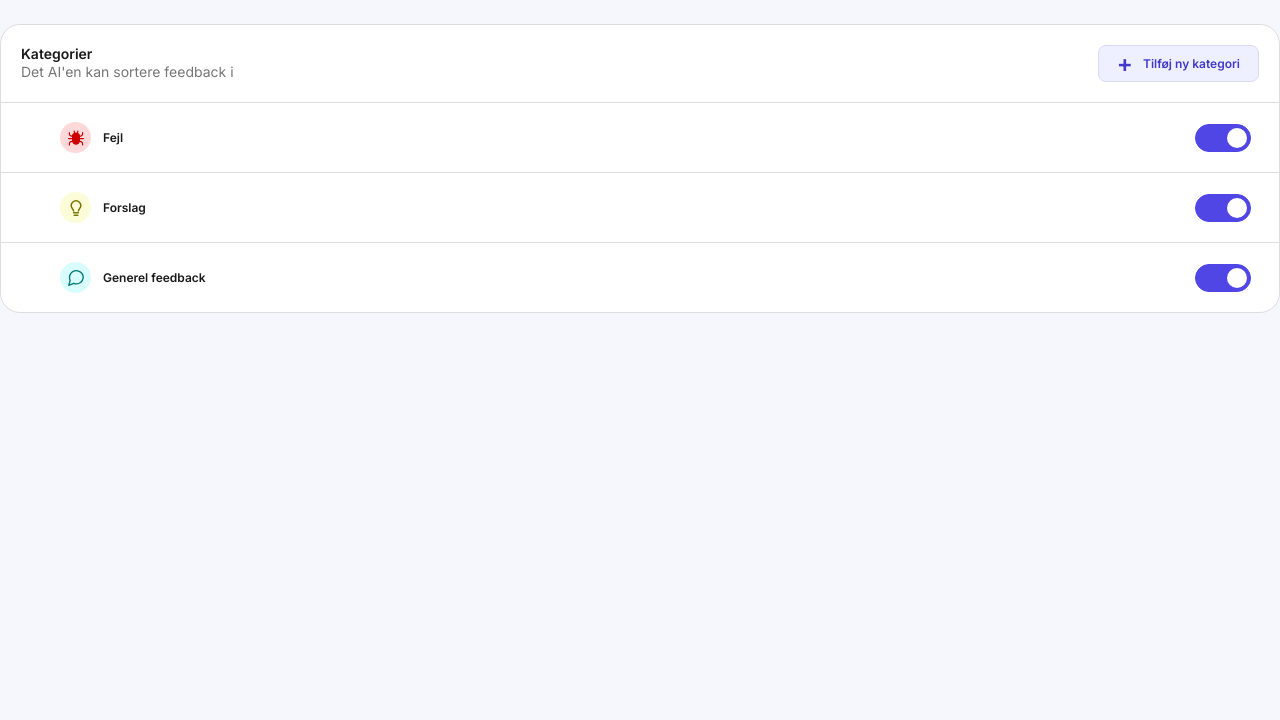
Test: CategorySettings – adding (US1) › adds the category last with its icon and colour, then focuses the button (FR-006, FR-011)
Click the button "+ Tilføj ny kategori".
click(1178, 64)  # box left=1098, top=45, right=1259, bottom=82
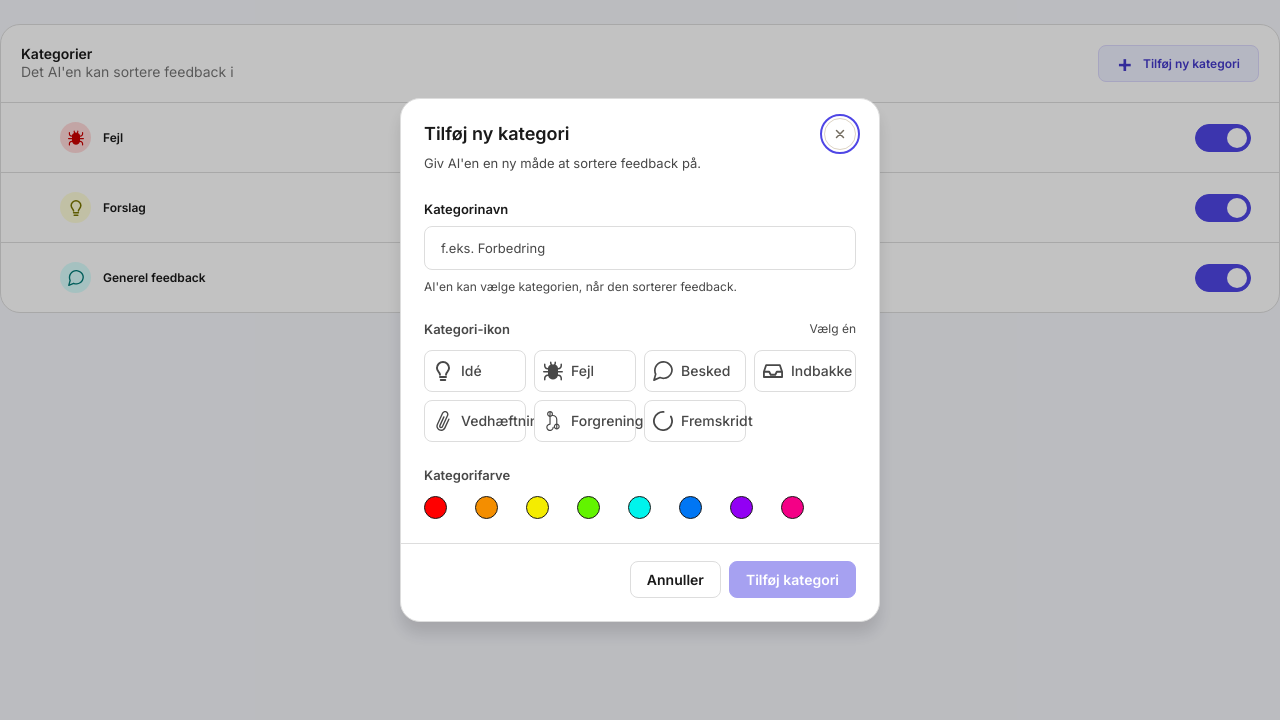
Type "Forbedring" into the field labelled "Kategorinavn".
click(640, 248); type("Forbedring")  # box left=424, top=226, right=856, bottom=270
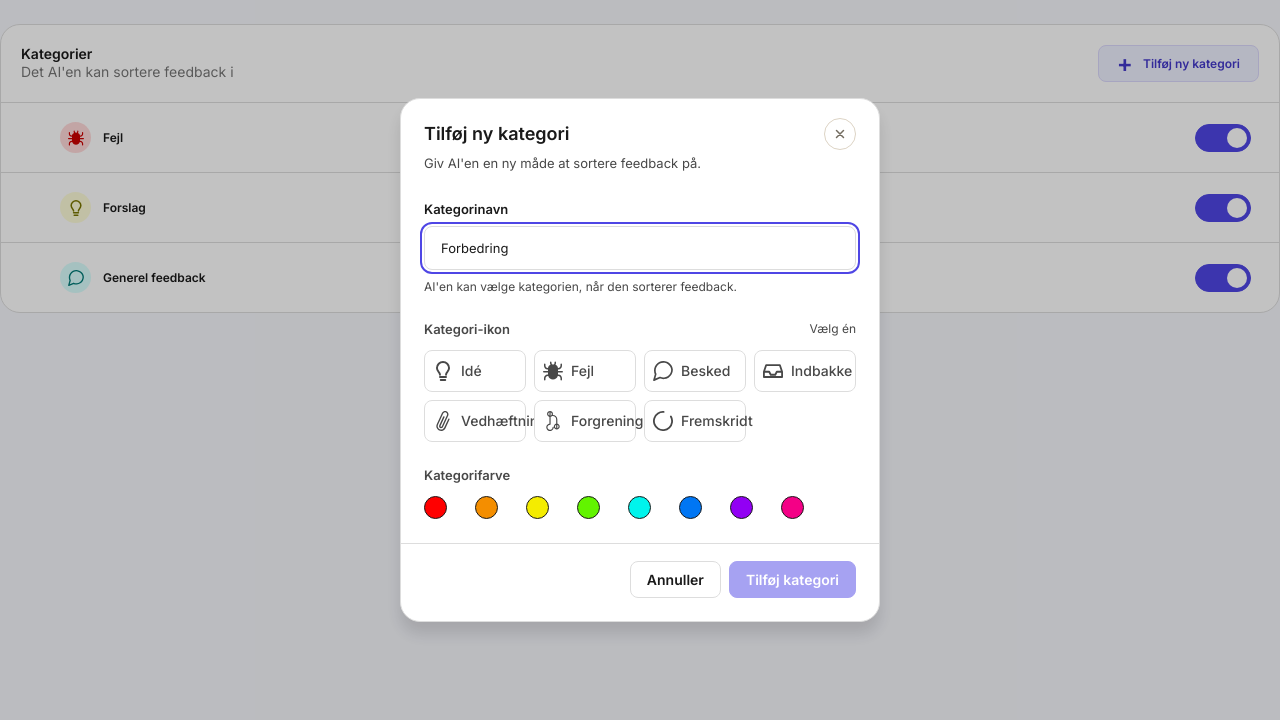
Click the 1st radio button labelled "Indbakke".
click(805, 371)  # box left=754, top=350, right=856, bottom=392
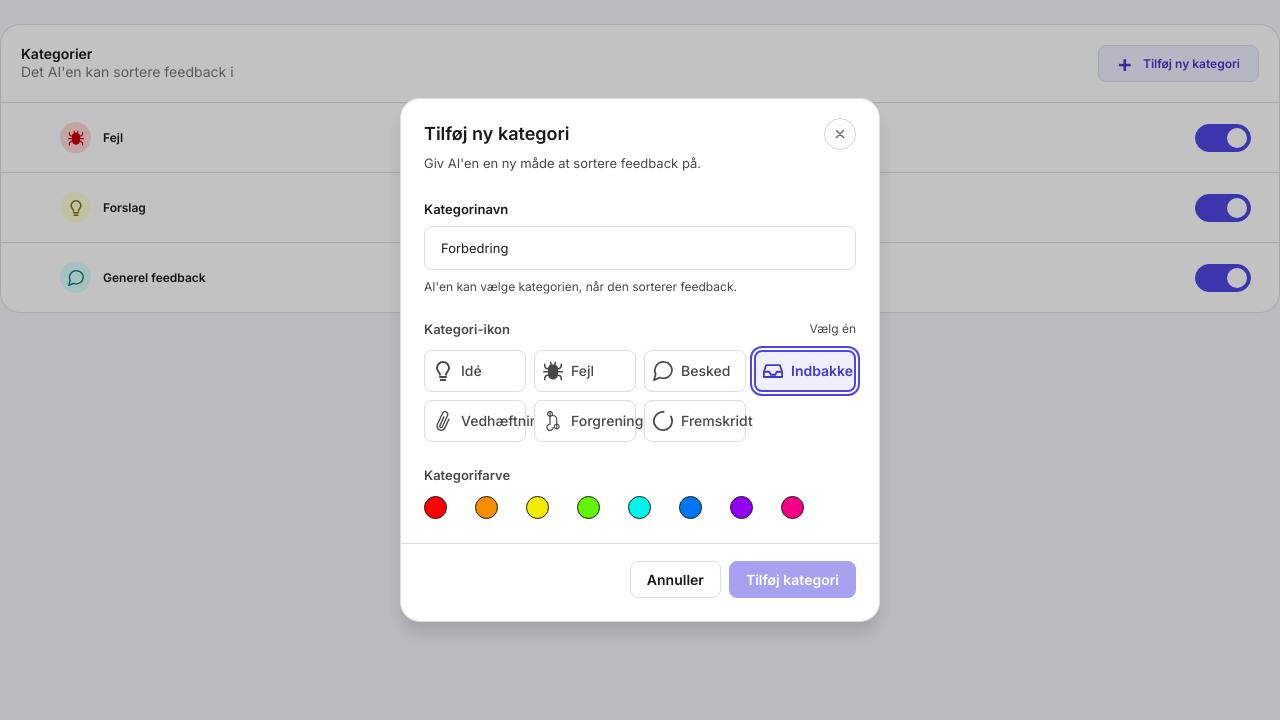
Click the radio button named "Blå".
click(690, 508)  # box left=679, top=496, right=702, bottom=519
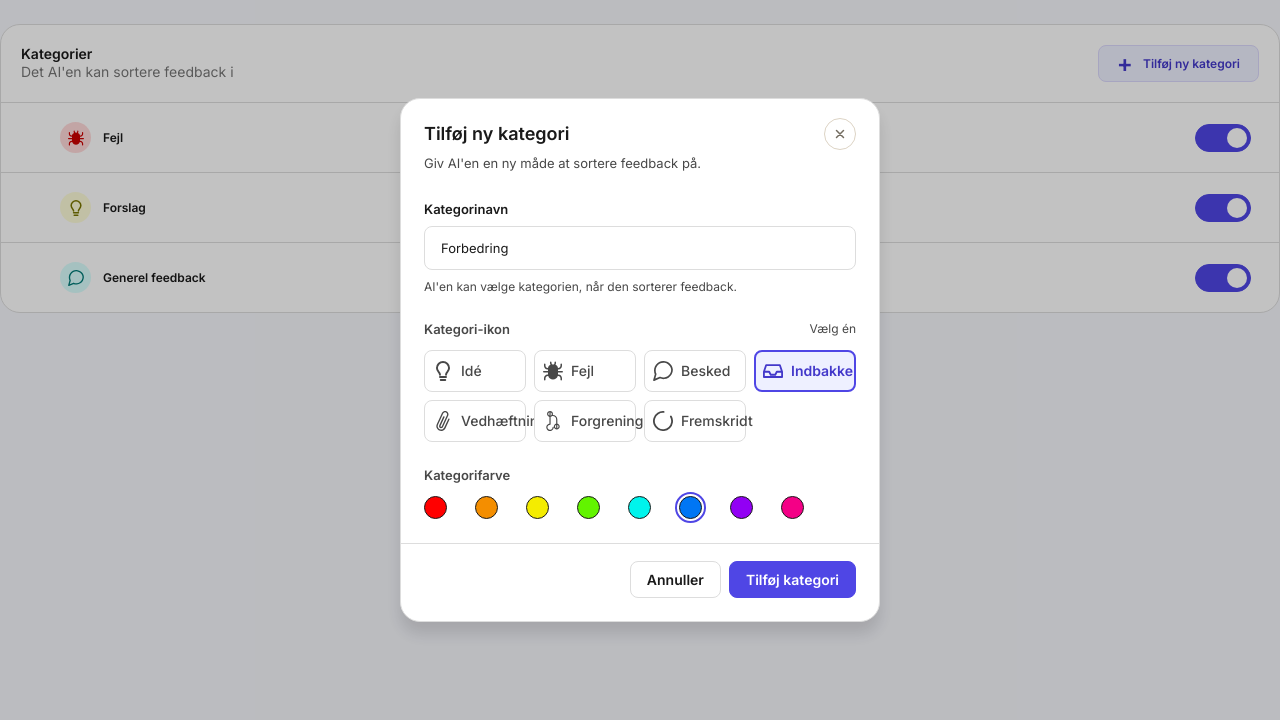
Click the button "Tilføj kategori".
click(792, 580)  # box left=729, top=561, right=856, bottom=598
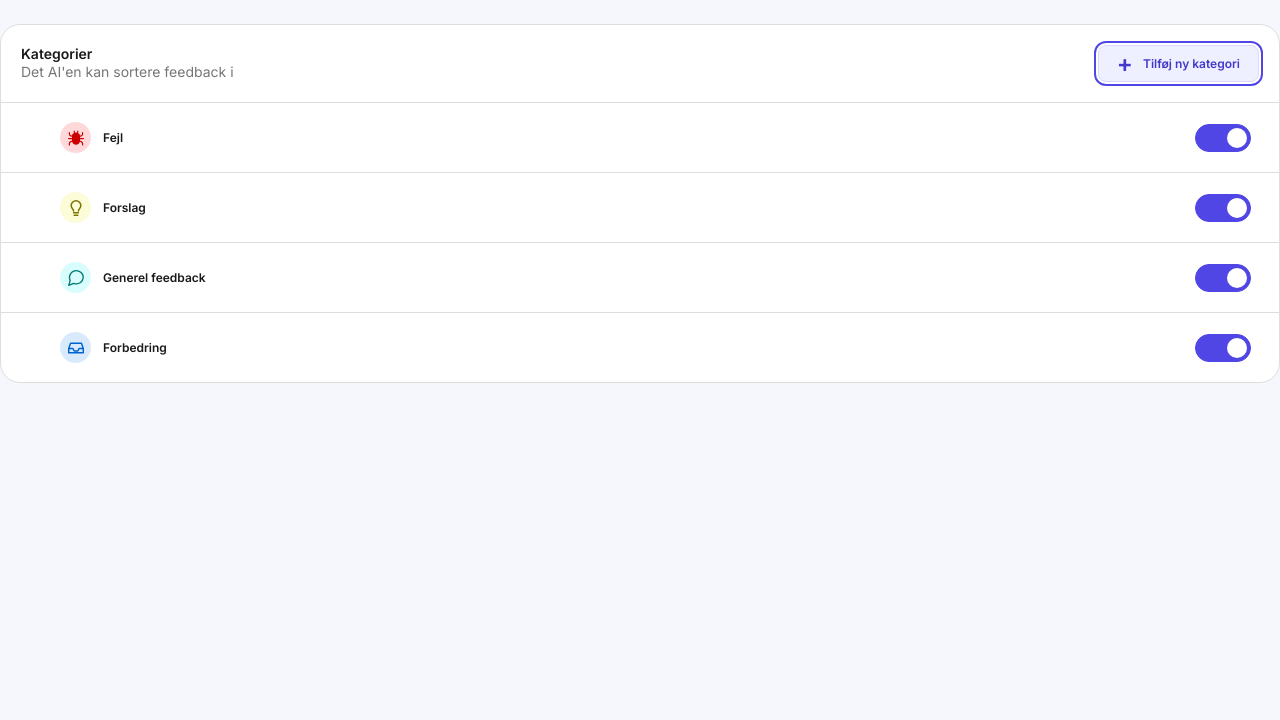
Check: the dialog is gone
